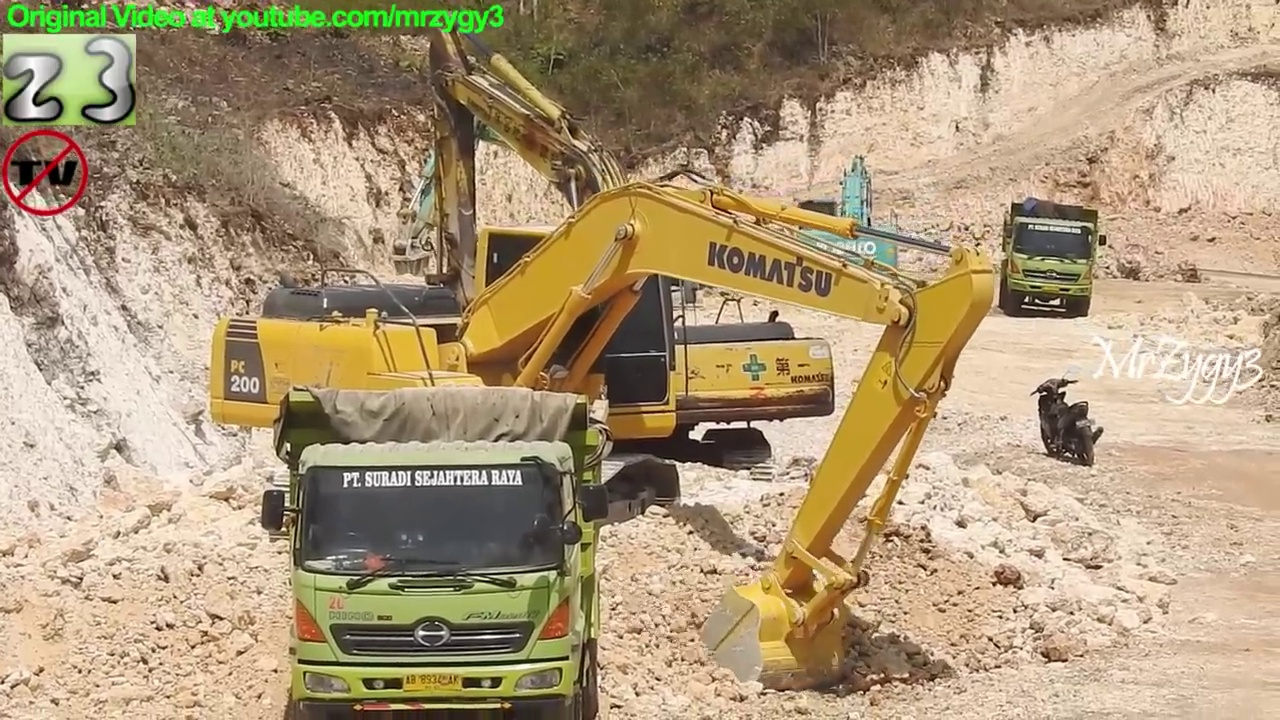excavator: (202, 162, 1003, 699), (400, 19, 843, 492), (385, 68, 743, 323), (786, 150, 930, 314)
truck: (254, 383, 620, 720), (993, 195, 1110, 323)
